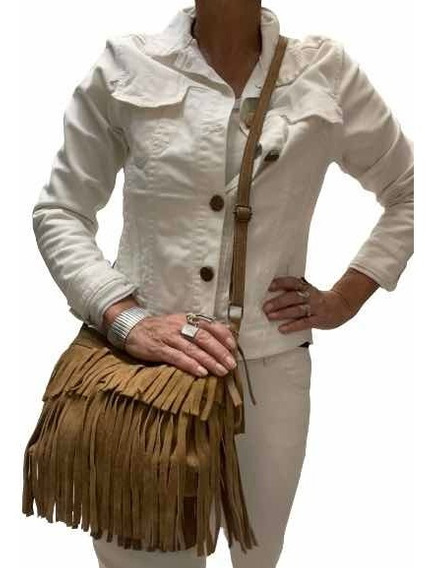cartera: (15, 321, 261, 557)
